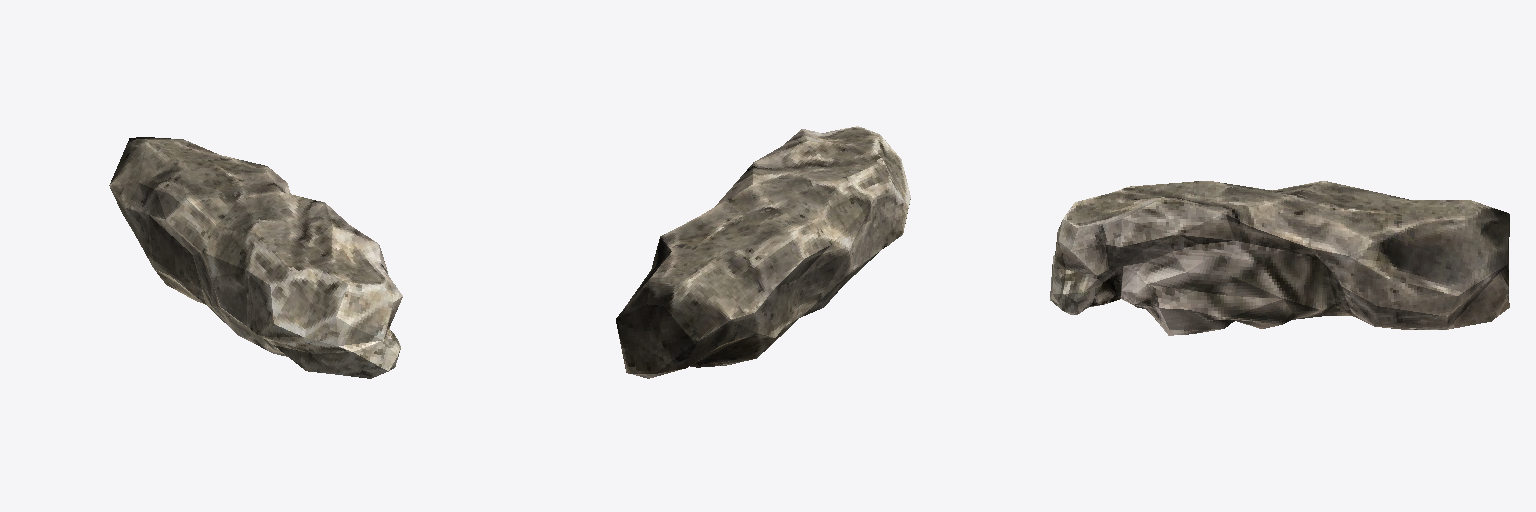
The picture shows the model from 3 angles: view 1: azimuth 30°, elevation 25°; view 2: azimuth 150°, elevation 25°; view 3: azimuth 270°, elevation 25°; orthographic projection.
Visible parts, largest first — view 1: IdolUnfinished_0; view 2: IdolUnfinished_0; view 3: IdolUnfinished_0.
Boxes of the visible parts, x1,y1,x2,y2 form: IdolUnfinished_0: [109, 137, 402, 378]; IdolUnfinished_0: [616, 126, 910, 378]; IdolUnfinished_0: [1050, 181, 1509, 335].
Bounding box in the file's own units: 0.4947 × 0.4871 × 1.5.
Materials: 1 (1 with a texture image).